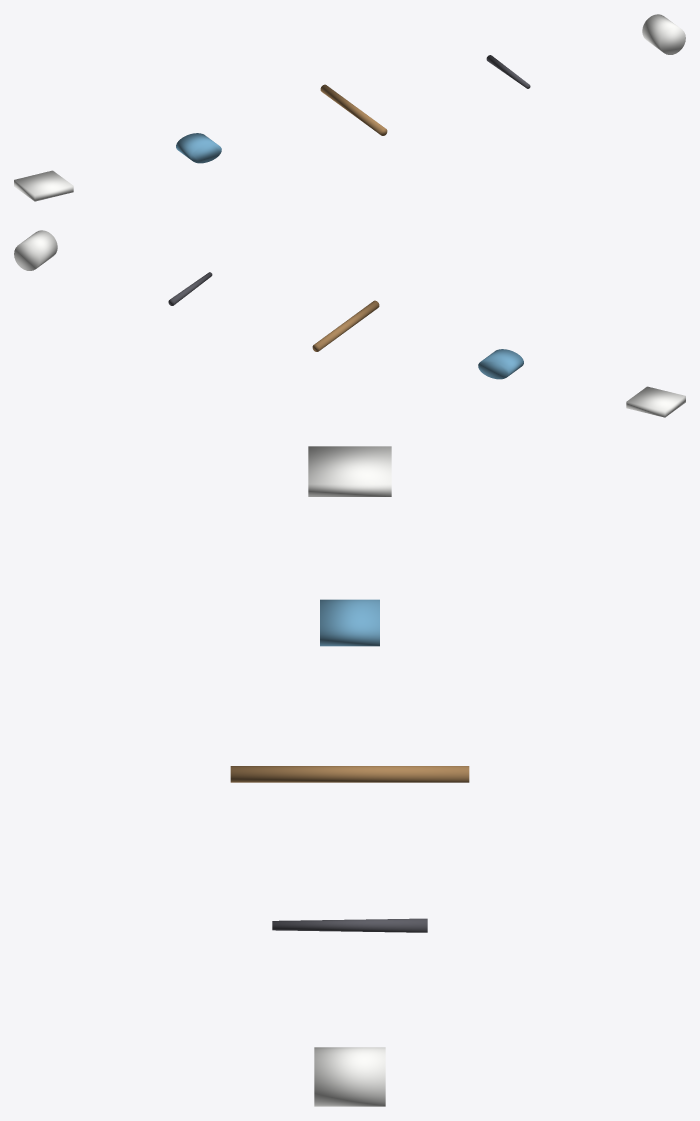
The model's file is TrainerItems.glb.
3 renders of one model, top to bottom at view 1: azimuth 30°, elevation 25°; view 2: azimuth 150°, elevation 25°; view 3: azimuth 270°, elevation 25°, orthographic. The views are drawn at different scales.
Parts seen in each view (by area): view 1: ItemBandage, ItemGauze, ItemCloth, ItemStick, ItemPen; view 2: ItemBandage, ItemGauze, ItemCloth, ItemStick, ItemPen; view 3: ItemBandage, ItemGauze, ItemStick, ItemCloth, ItemPen.
Boxes of the visible parts, x1,y1,x2,y2 form: ItemBandage: (642, 14, 685, 54); ItemGauze: (14, 170, 73, 201); ItemCloth: (176, 133, 221, 163); ItemStick: (320, 84, 387, 135); ItemPen: (486, 55, 530, 88); ItemBandage: (14, 230, 57, 270); ItemGauze: (626, 386, 685, 417); ItemCloth: (478, 349, 523, 379); ItemStick: (312, 300, 379, 351); ItemPen: (168, 272, 212, 305); ItemBandage: (314, 1047, 385, 1106); ItemGauze: (308, 446, 391, 496); ItemStick: (230, 766, 469, 782); ItemCloth: (320, 599, 379, 646); ItemPen: (272, 918, 427, 932).
Bounding box in the file's own units: 1.26 × 0.05 × 0.2.
